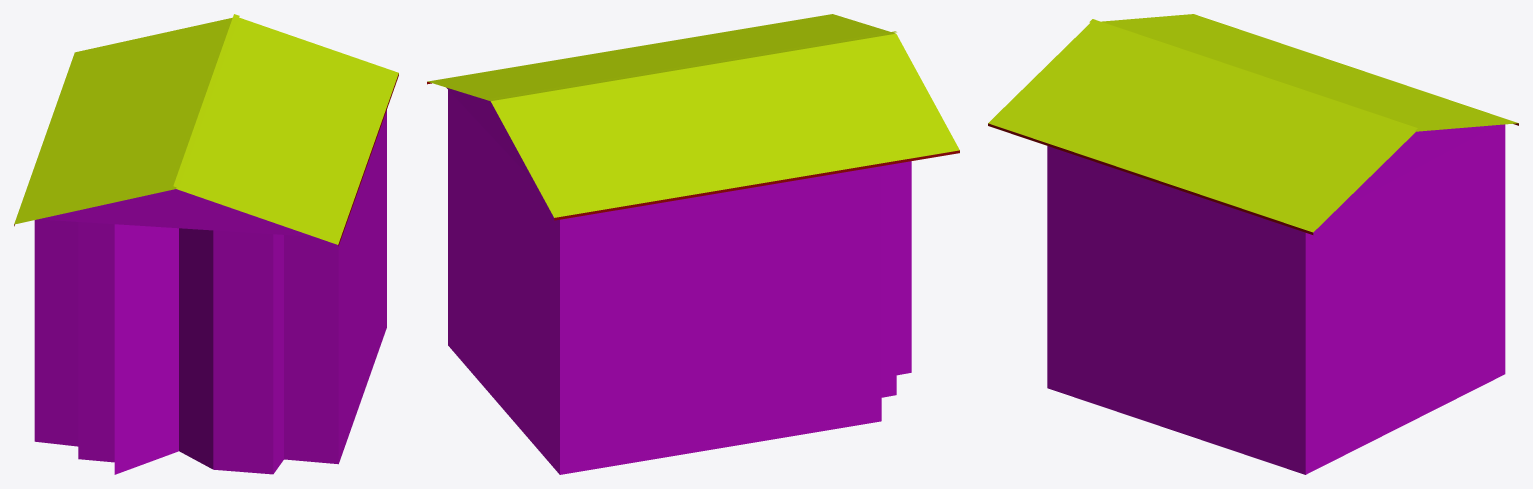
The model's file is dol_63.glb.
3 views of the same model, side by side, from view 1: azimuth 30°, elevation 25°; view 2: azimuth 150°, elevation 25°; view 3: azimuth 270°, elevation 25° (orthographic). The views are drawn at different scales.
Visible parts, largest first — view 1: dol_63; view 2: dol_63; view 3: dol_63.
Boxes of the visible parts, bbox=[...] form: dol_63: bbox=[14, 14, 398, 474]; dol_63: bbox=[427, 14, 959, 474]; dol_63: bbox=[988, 14, 1518, 474].
Bounding box in the file's own units: 21.54 × 13.74 × 22.11.
